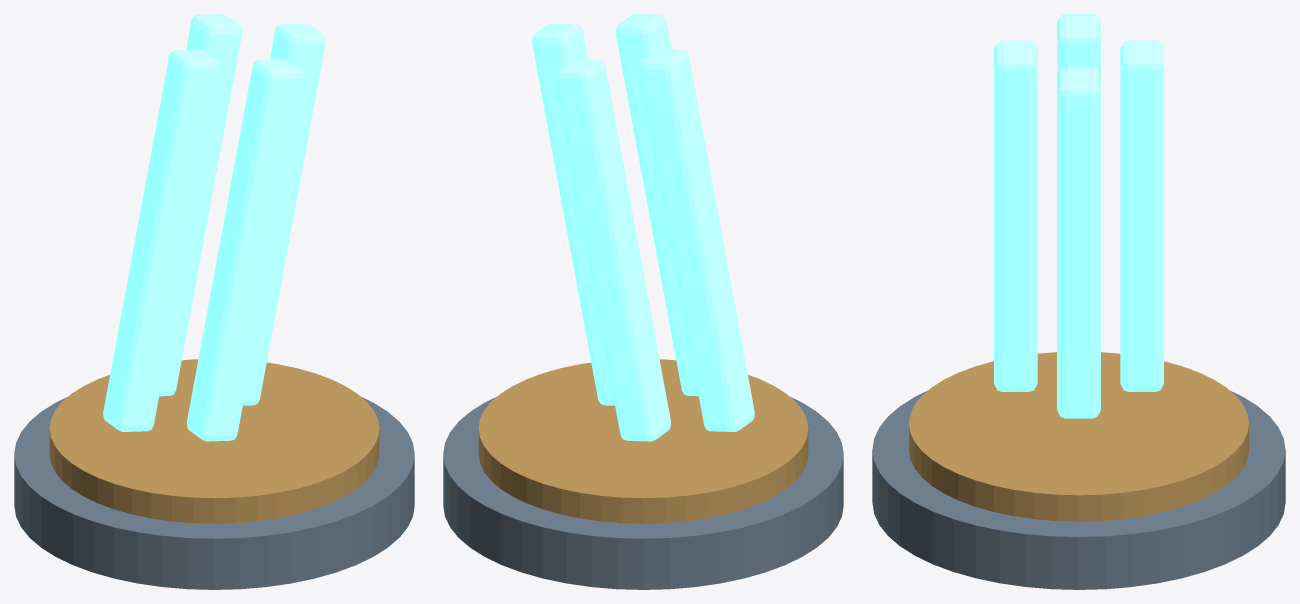
File: SM_TravelAnchor.fbx
3 renders of one model, left to right at view 1: azimuth 30°, elevation 25°; view 2: azimuth 150°, elevation 25°; view 3: azimuth 270°, elevation 25°, orthographic. The views are drawn at different scales.
Parts seen in each view (by area): view 1: SM_TravelAnchor; view 2: SM_TravelAnchor; view 3: SM_TravelAnchor.
Part boxes in pixels (box(x1,y1,x2,y2)): SM_TravelAnchor: box(14, 14, 414, 589); SM_TravelAnchor: box(443, 14, 843, 589); SM_TravelAnchor: box(872, 14, 1285, 589).
Size of the model in its own units: 170 by 170 by 214.
